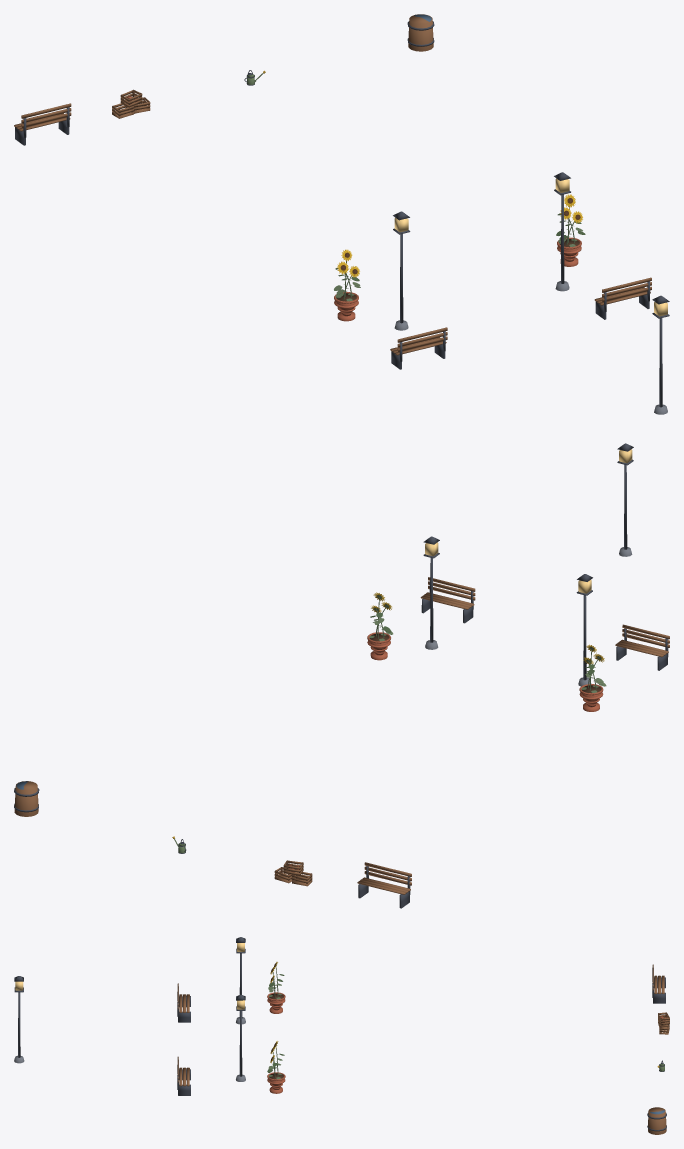
The model's file is Museum_Ext_Props.fbx.
3 renders of one model, top to bottom at view 1: azimuth 30°, elevation 25°; view 2: azimuth 150°, elevation 25°; view 3: azimuth 270°, elevation 25°, orthographic. The views are drawn at different scales.
Parts seen in each view (by area): view 1: Prop_Bench_Back, Prop_Bench_W, Prop_Bench_E, Prop_Pot_W, Prop_Pot_E, Prop_Garden_Corner, Prop_Lamppost_Far, Prop_Crates, Prop_Lamppost_W, Prop_Lamppost_E; view 2: Prop_Bench_Back, Prop_Bench_W, Prop_Bench_E, Prop_Pot_E, Prop_Pot_W, Prop_Garden_Corner, Prop_Crates, Prop_Lamppost_W, Prop_Lamppost_E; view 3: Prop_Pot_E, Prop_Pot_W, Prop_Garden_Corner, Prop_Lamppost_Far, Prop_Bench_W, Prop_Bench_Back, Prop_Bench_E, Prop_Lamppost_E, Prop_Lamppost_W.
Part boxes in pixels (x1,y1,x2,y2): Prop_Bench_Back: [14, 103, 71, 145]; Prop_Bench_W: [390, 327, 447, 369]; Prop_Bench_E: [594, 277, 651, 319]; Prop_Pot_W: [334, 249, 360, 321]; Prop_Pot_E: [556, 194, 585, 266]; Prop_Garden_Corner: [407, 14, 434, 51]; Prop_Lamppost_Far: [652, 295, 669, 414]; Prop_Crates: [112, 89, 150, 118]; Prop_Lamppost_W: [393, 211, 410, 330]; Prop_Lamppost_E: [554, 172, 570, 291]; Prop_Bench_Back: [357, 862, 411, 908]; Prop_Bench_W: [615, 624, 669, 670]; Prop_Bench_E: [420, 577, 475, 623]; Prop_Pot_E: [367, 592, 393, 660]; Prop_Pot_W: [579, 644, 606, 711]; Prop_Garden_Corner: [14, 781, 39, 816]; Prop_Crates: [274, 860, 312, 886]; Prop_Lamppost_W: [576, 574, 592, 686]; Prop_Lamppost_E: [423, 536, 439, 649]; Prop_Pot_E: [267, 1041, 285, 1093]; Prop_Pot_W: [267, 962, 285, 1013]; Prop_Garden_Corner: [647, 1107, 666, 1134]; Prop_Lamppost_Far: [14, 976, 24, 1063]; Prop_Bench_W: [177, 983, 190, 1022]; Prop_Bench_Back: [652, 964, 665, 1003]; Prop_Bench_E: [177, 1056, 190, 1095]; Prop_Lamppost_E: [236, 994, 245, 1081]; Prop_Lamppost_W: [236, 937, 245, 1024].
Bounding box in the file's own units: 13.35 × 3.57 × 25.
